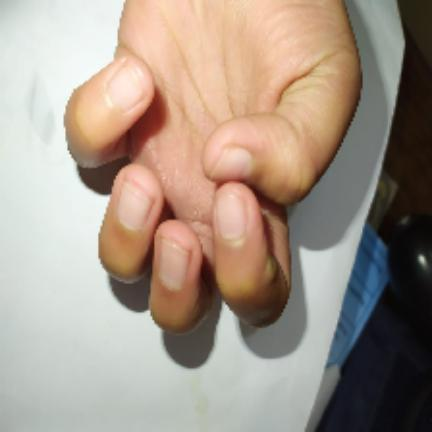Nail: (108, 65, 153, 111), (117, 181, 152, 231), (160, 239, 190, 291), (216, 192, 247, 239), (210, 147, 252, 180)
